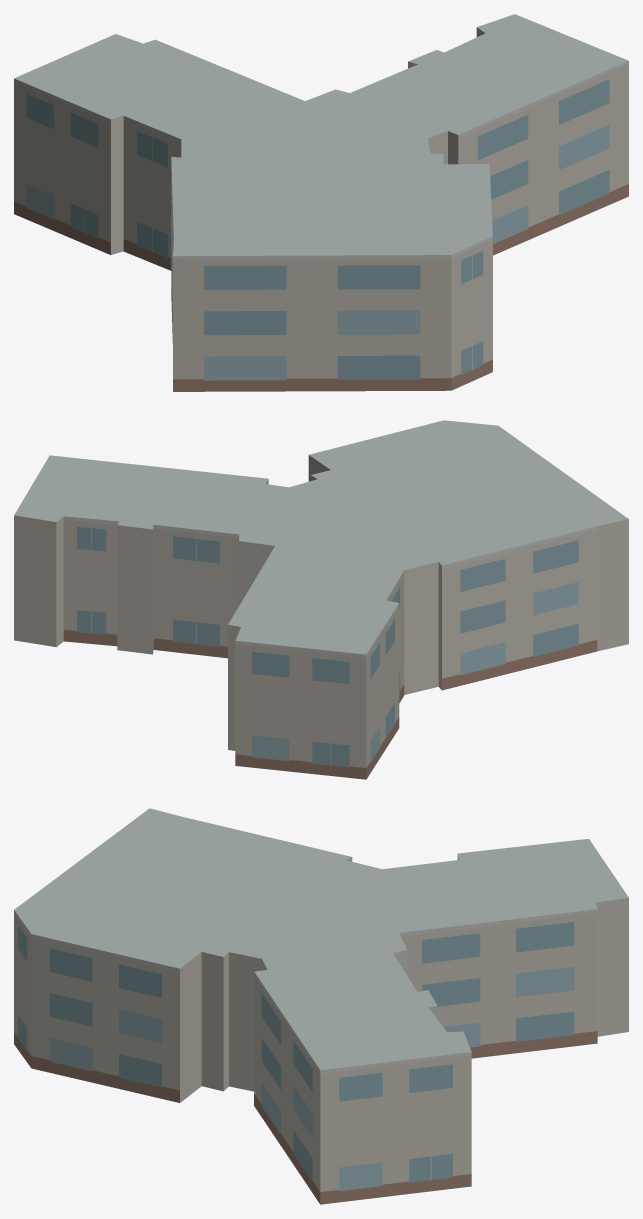
The model's file is survey-upis-32901968.glb.
3 views of the same model, one above another, from view 1: azimuth 30°, elevation 25°; view 2: azimuth 150°, elevation 25°; view 3: azimuth 270°, elevation 25° (orthographic). The views are drawn at different scales.
Visible parts, largest first — view 1: survey-upis-32901968.tmp; view 2: survey-upis-32901968.tmp; view 3: survey-upis-32901968.tmp.
Part boxes in pixels (x1,y1,x2,y2): survey-upis-32901968.tmp: [14, 14, 628, 391]; survey-upis-32901968.tmp: [14, 420, 628, 779]; survey-upis-32901968.tmp: [14, 808, 628, 1204].
Bounding box in the file's own units: 38.27 × 9.15 × 37.95.
